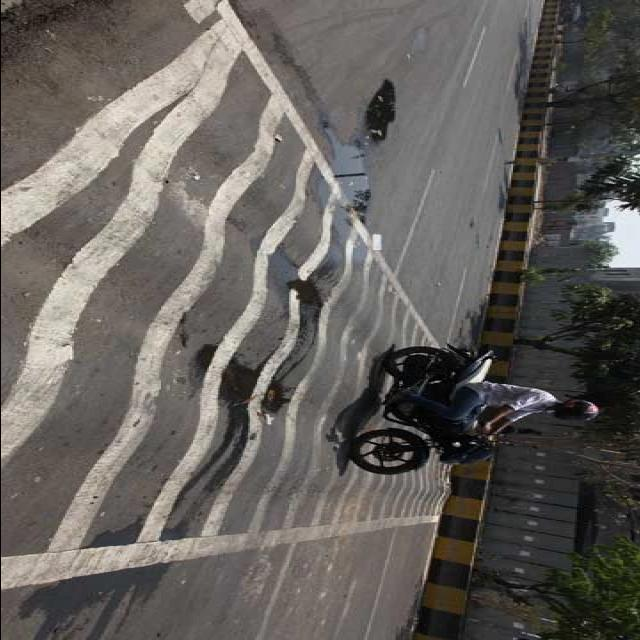speedbreaker: (0, 27, 451, 520)
